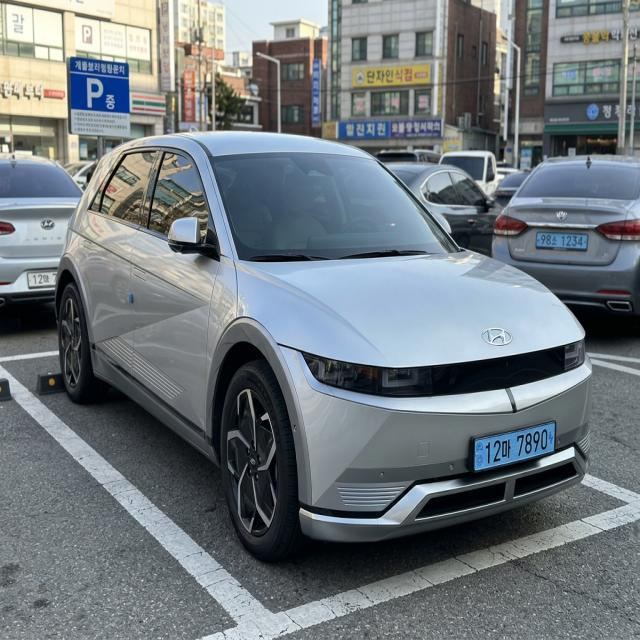car: (457, 414, 575, 477), (527, 223, 597, 258)
carev: (467, 433, 485, 471), (545, 419, 560, 460), (581, 228, 592, 255), (533, 225, 541, 254)
